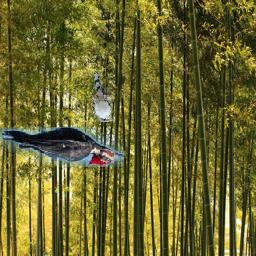Cuckoo: (92, 72, 114, 123)
Woodpecker: (0, 127, 124, 167)
